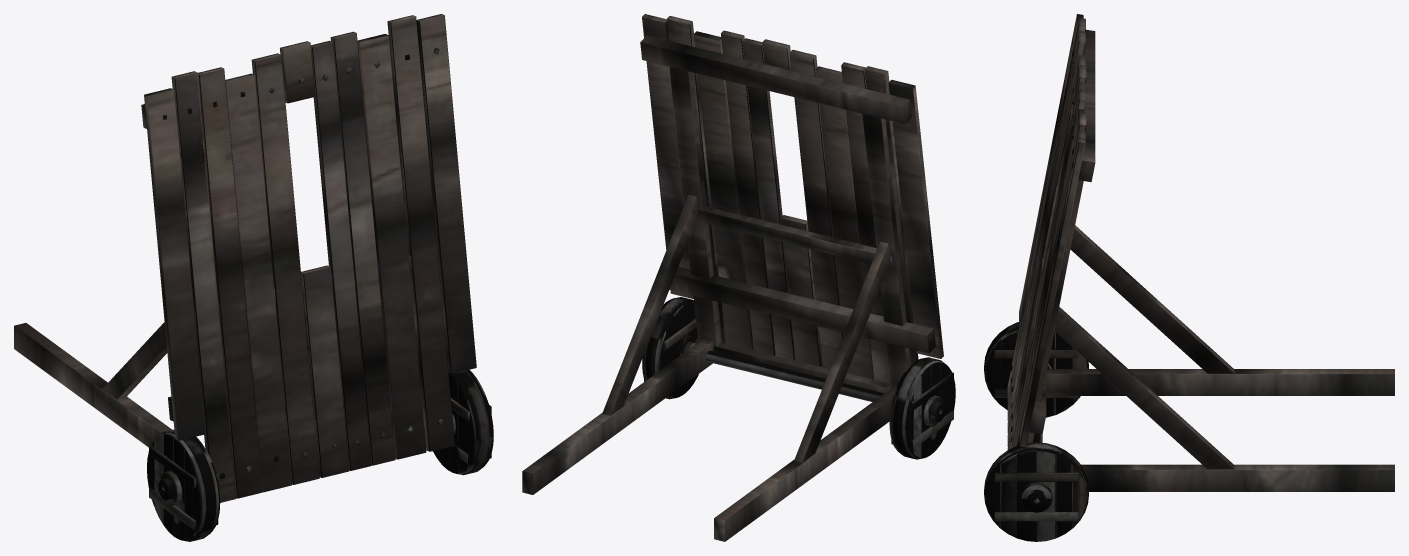
3 renders of one model, left to right at view 1: azimuth 30°, elevation 25°; view 2: azimuth 150°, elevation 25°; view 3: azimuth 270°, elevation 25°, orthographic. The views are drawn at different scales.
Visible parts, largest first — view 1: mesh_0; view 2: mesh_0; view 3: mesh_0.
Boxes of the visible parts, x1,y1,x2,y2 form: mesh_0: [14, 14, 493, 541]; mesh_0: [522, 14, 955, 541]; mesh_0: [984, 14, 1394, 541].
Bounding box in the file's own units: 87.21 × 116 × 106.
Materials: 1 (1 with a texture image).
